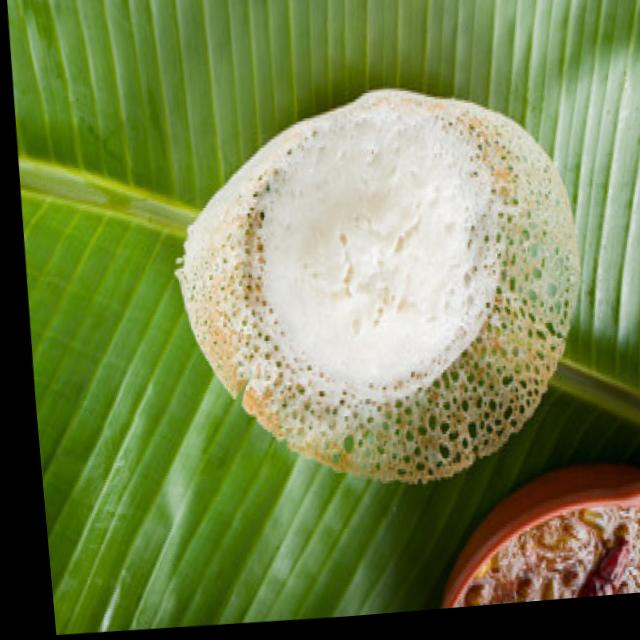AAPAM: (175, 91, 578, 480)
